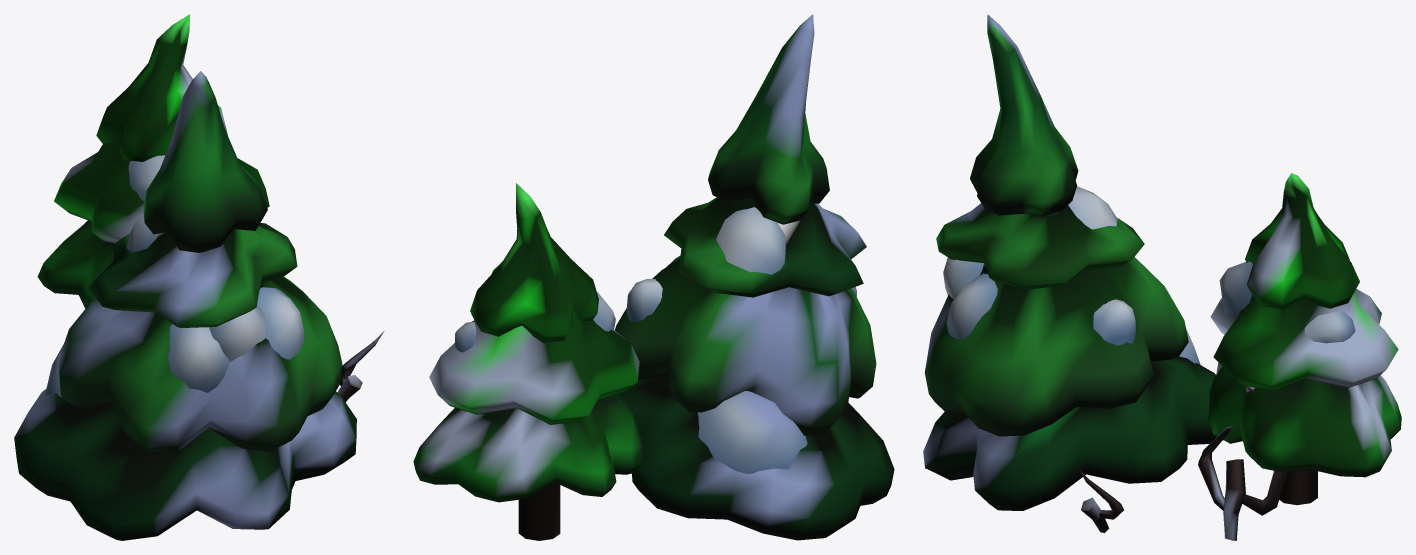
The model's file is Tree_09.fbx.
3 views of the same model, side by side, from view 1: azimuth 30°, elevation 25°; view 2: azimuth 150°, elevation 25°; view 3: azimuth 270°, elevation 25° (orthographic).
Visible parts, largest first — view 1: Tree_09; view 2: Tree_09; view 3: Tree_09.
Part boxes in pixels (box(x1,y1,x2,y2)): Tree_09: box(14, 14, 384, 540); Tree_09: box(413, 14, 894, 540); Tree_09: box(923, 14, 1401, 540).
Bounding box in the file's own units: 3725 × 4864 × 4676.
